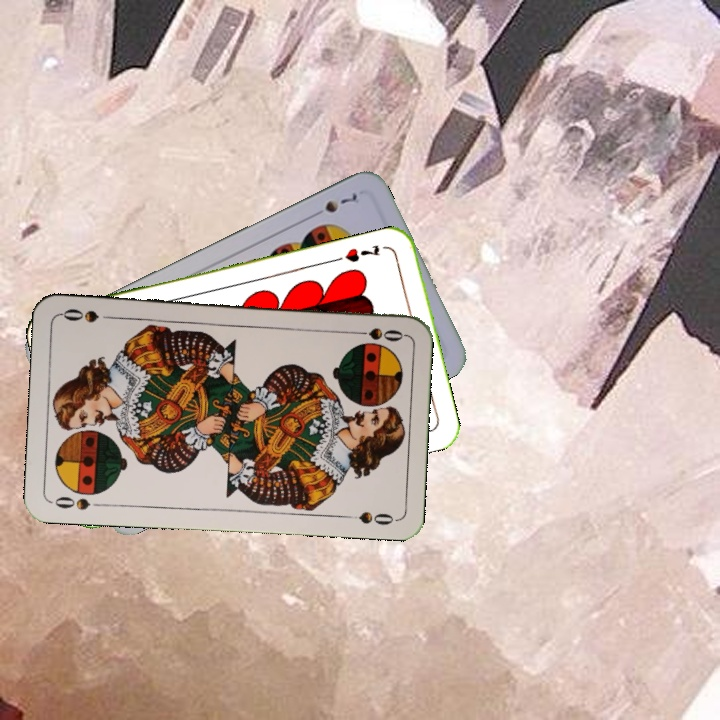H7: (341, 240, 383, 265)
S7: (307, 187, 363, 220)
SO: (347, 324, 407, 344), (49, 492, 93, 513)
